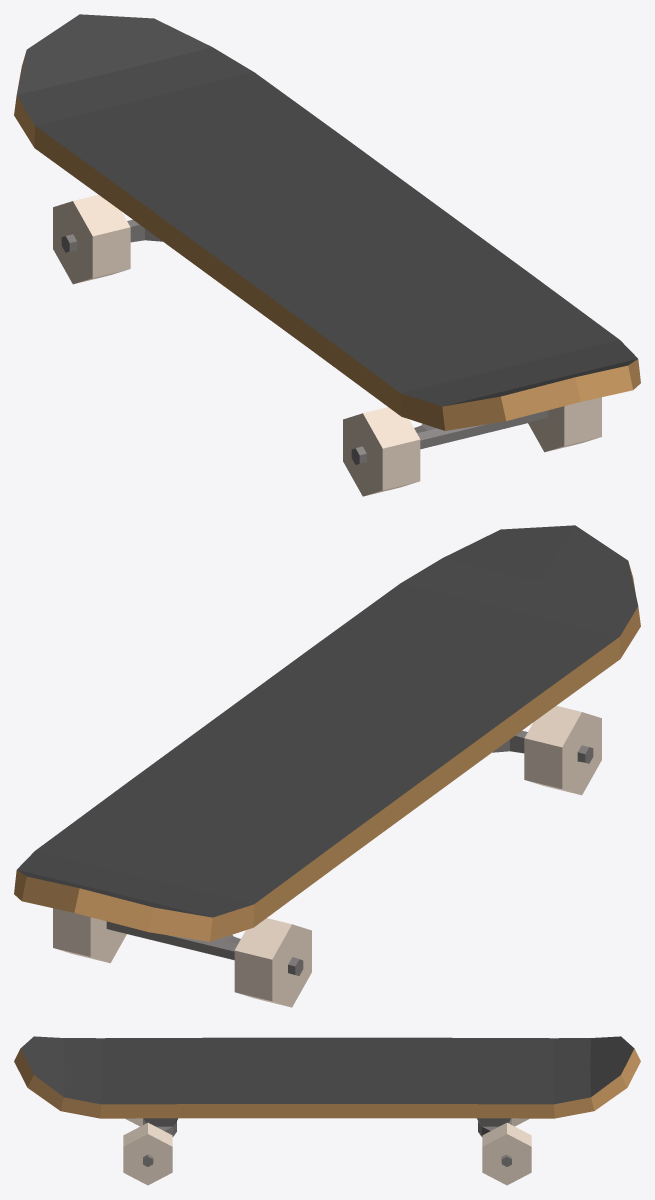
Rendered from skateboard.fbx.
The picture shows the model from 3 angles, top to bottom: view 1: azimuth 30°, elevation 25°; view 2: azimuth 150°, elevation 25°; view 3: azimuth 270°, elevation 25°; orthographic projection. The views are drawn at different scales.
Parts seen in each view (by area): view 1: skateboard; view 2: skateboard; view 3: skateboard.
Part boxes in pixels (<box>): skateboard: <box>14,14,640,496</box>; skateboard: <box>14,525,640,1007</box>; skateboard: <box>14,1036,640,1185</box>.
Bounding box in the file's own units: 0.2345 × 0.1611 × 0.88.
